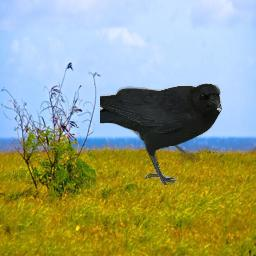Crow: (100, 83, 222, 185)
